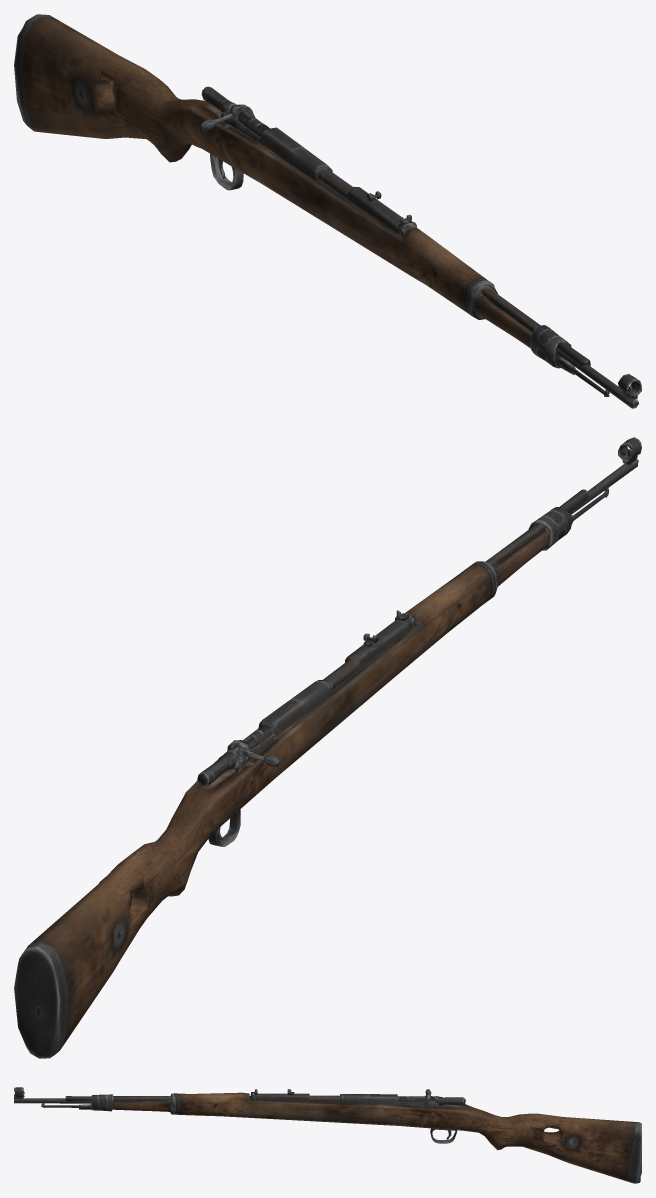
Rendered from kar98k.fbx.
The picture shows the model from 3 angles, top to bottom: view 1: azimuth 30°, elevation 25°; view 2: azimuth 150°, elevation 25°; view 3: azimuth 270°, elevation 25°; orthographic projection. The views are drawn at different scales.
Visible parts, largest first — view 1: kar98k; view 2: kar98k; view 3: kar98k.
Boxes of the visible parts, left/top/right/bottom form: kar98k: left=14, top=14, right=641, bottom=408; kar98k: left=14, top=437, right=641, bottom=1058; kar98k: left=14, top=1087, right=641, bottom=1183.
Size of the model in its own units: 6.46 by 18.64 by 111.
1 material, 1 textured.
